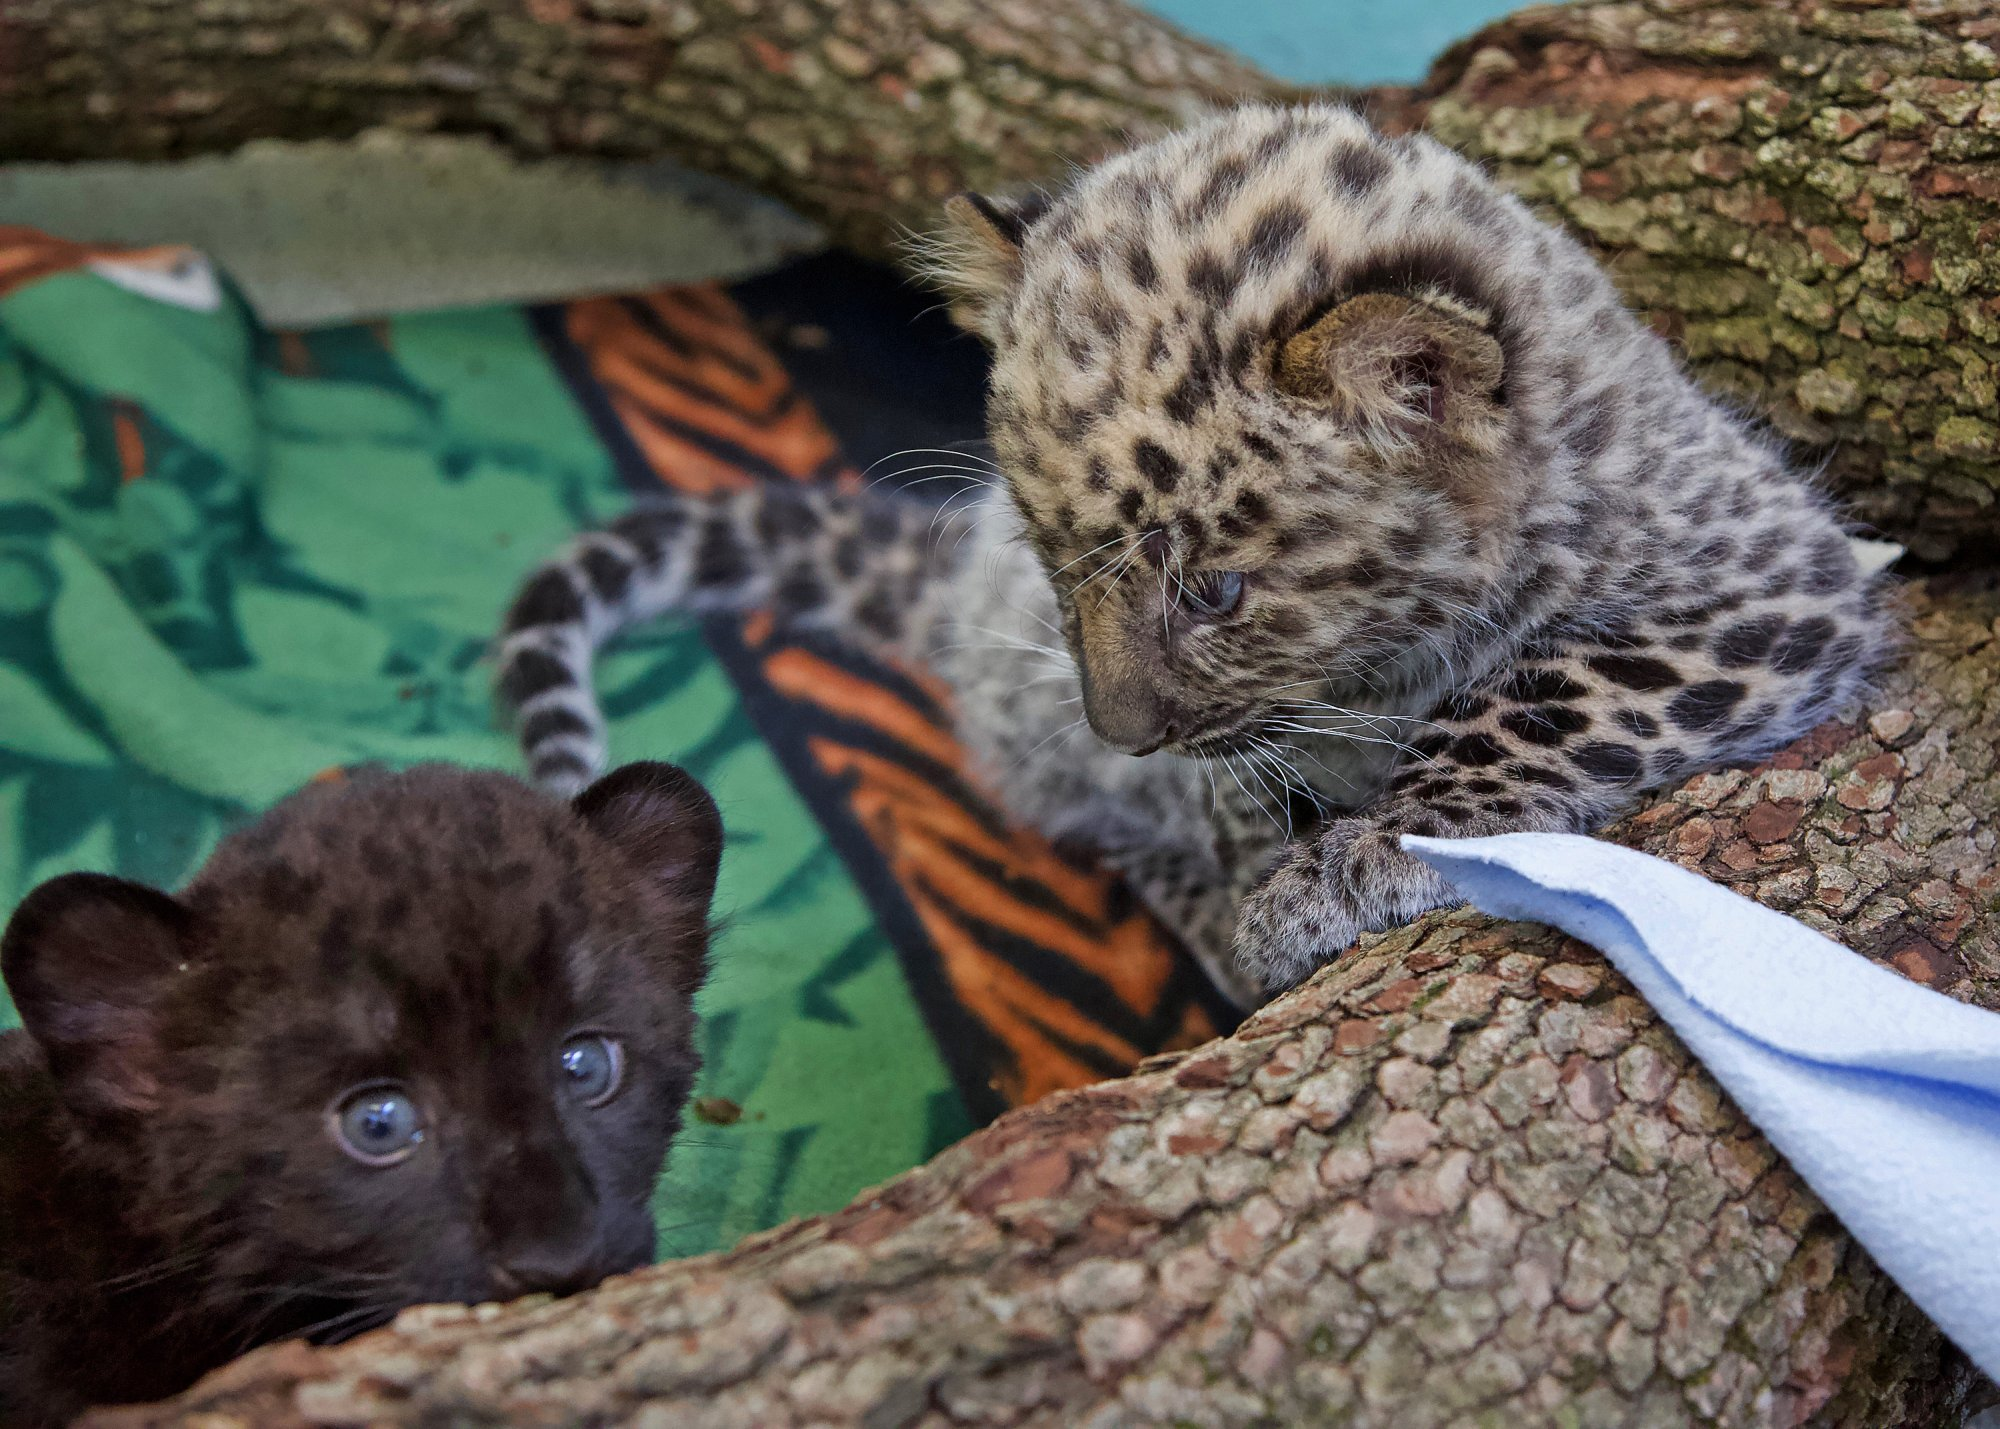amur_leopard: (831, 101, 1735, 807)
